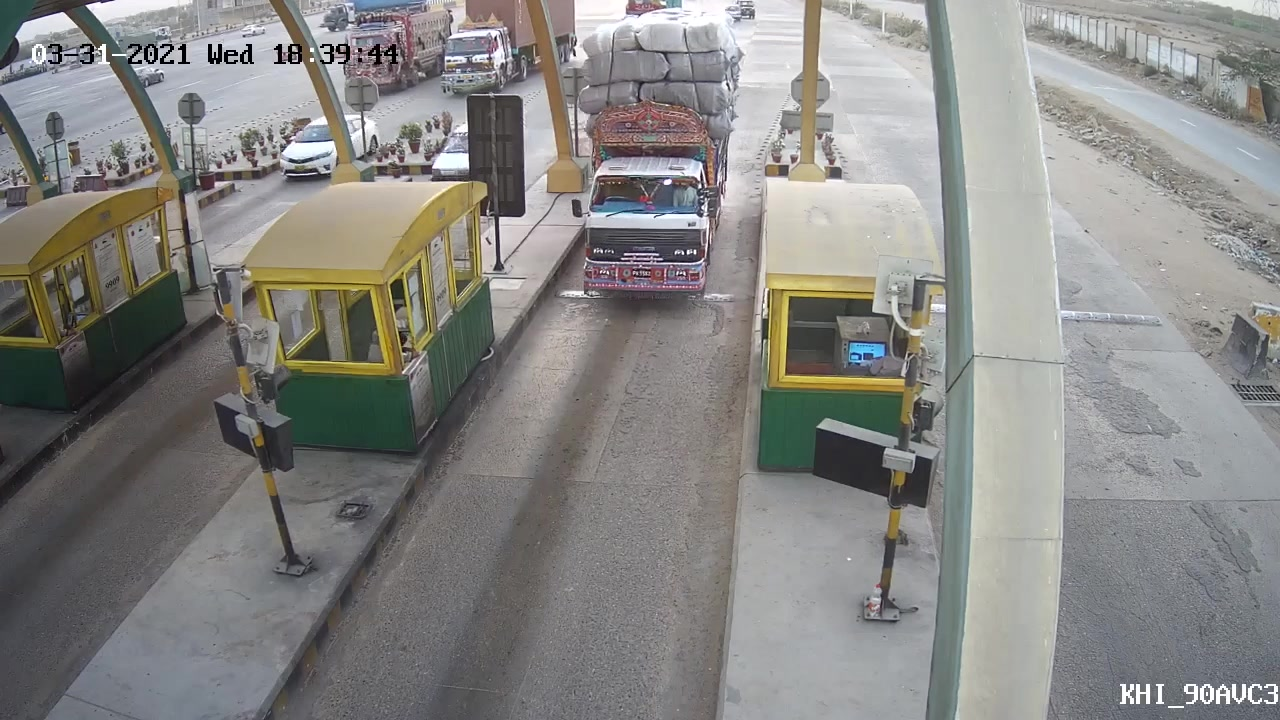F5: (569, 1, 753, 327)
